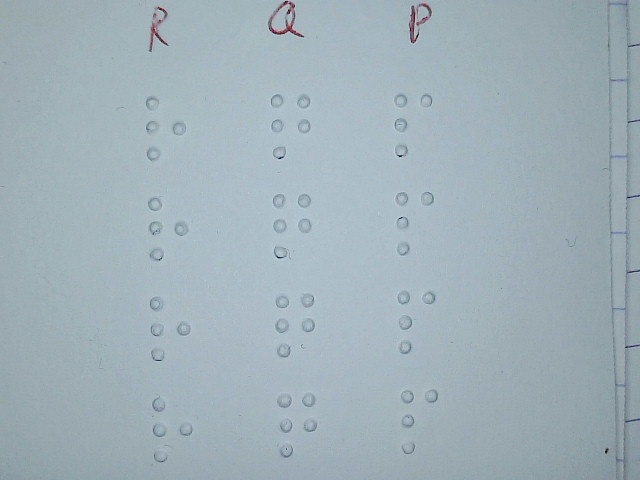P: (391, 90, 435, 158), (393, 188, 437, 256), (394, 287, 438, 355), (397, 387, 441, 455)
Q: (269, 92, 313, 160), (270, 191, 314, 259), (273, 290, 317, 358), (275, 390, 319, 458)
R: (144, 95, 188, 163), (146, 195, 190, 263), (148, 294, 192, 362), (149, 395, 193, 463)
